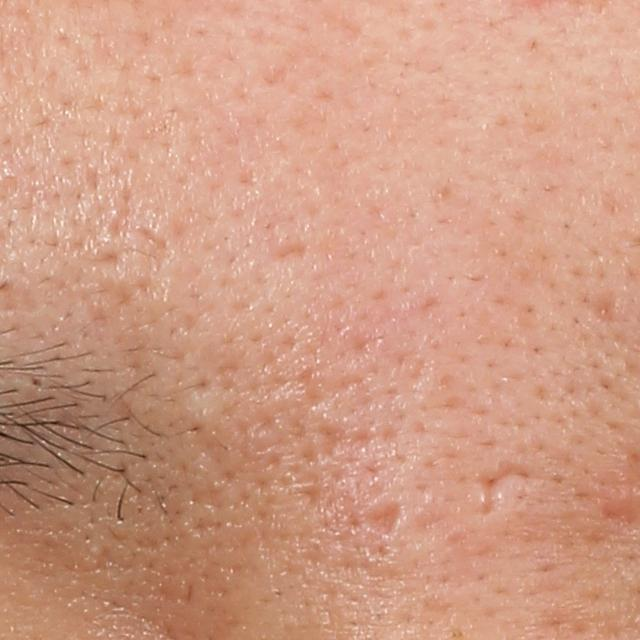atrophic_scar: (476, 462, 545, 518), (359, 500, 406, 539), (594, 292, 619, 325), (270, 242, 311, 262)
comedo: (25, 373, 49, 390)
hypertrophic_scar: (184, 391, 240, 438)
